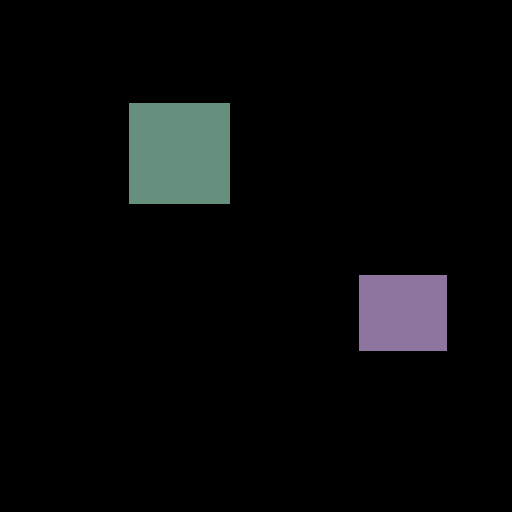rectangle: (359, 275, 446, 350)
square: (129, 103, 229, 203)
